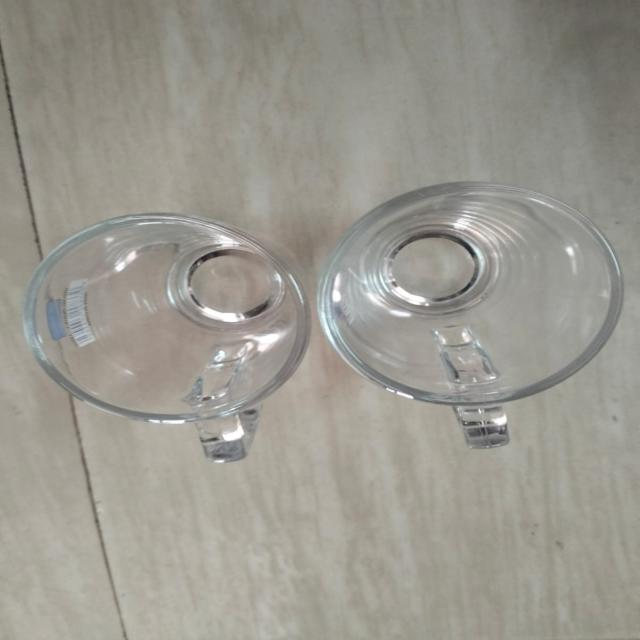glass-VX4N: (318, 179, 626, 451), (21, 207, 304, 464)
